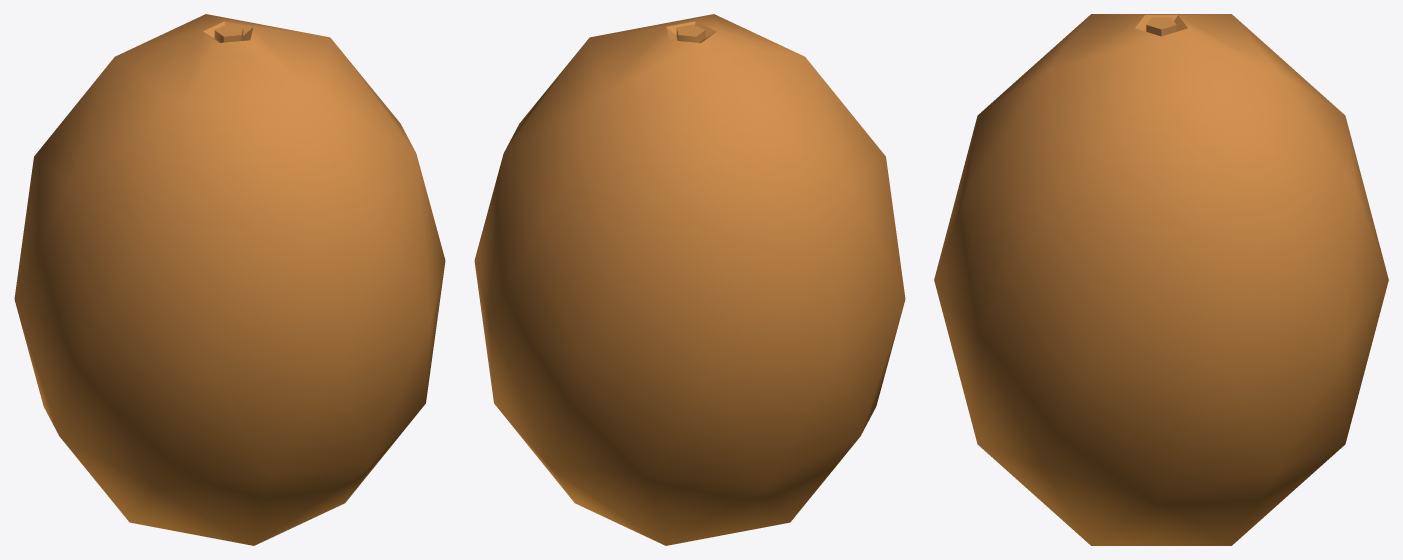
File: kiwi.fbx
The picture shows the model from 3 angles, left to right: view 1: azimuth 30°, elevation 25°; view 2: azimuth 150°, elevation 25°; view 3: azimuth 270°, elevation 25°; orthographic projection. The views are drawn at different scales.
Parts seen in each view (by area): view 1: kiwi; view 2: kiwi; view 3: kiwi.
Boxes of the visible parts, x1,y1,x2,y2 form: kiwi: (14,14,445,545); kiwi: (474,14,905,545); kiwi: (934,14,1388,545).
Bounding box in the file's own units: 25.75 × 34.17 × 27.08.
